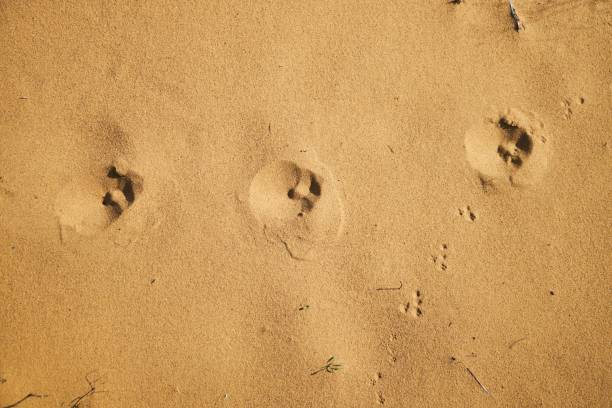animal_foot_print: (249, 159, 344, 258), (54, 158, 142, 240), (465, 109, 548, 185), (102, 160, 142, 221), (400, 289, 422, 317), (561, 97, 584, 119), (431, 244, 447, 271), (457, 205, 476, 221)
